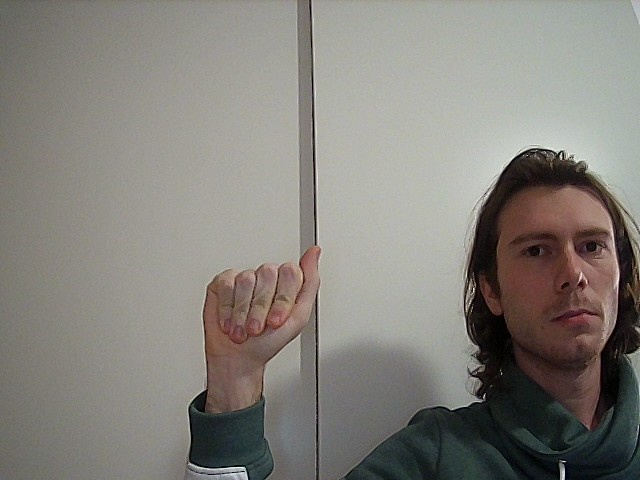a: (180, 242, 342, 367)
